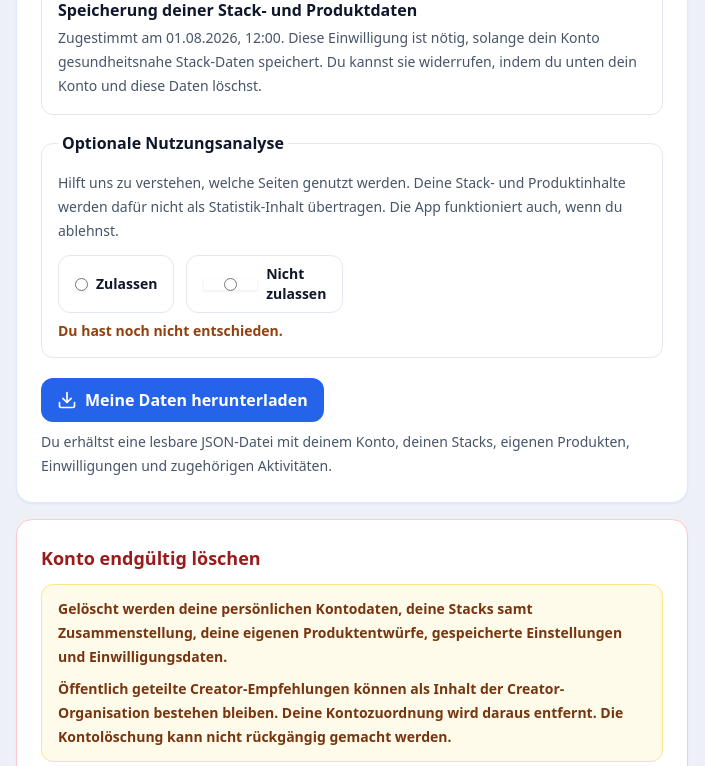
ProfilePage preferences and privacy controls › downloads the real export response and reports completion
The width and height of the screenshot is (705, 766).
(page scrolled)
Click the button "Meine Daten herunterladen" below "Du hast noch nicht entschieden." at (182, 400), box [41, 378, 324, 422]
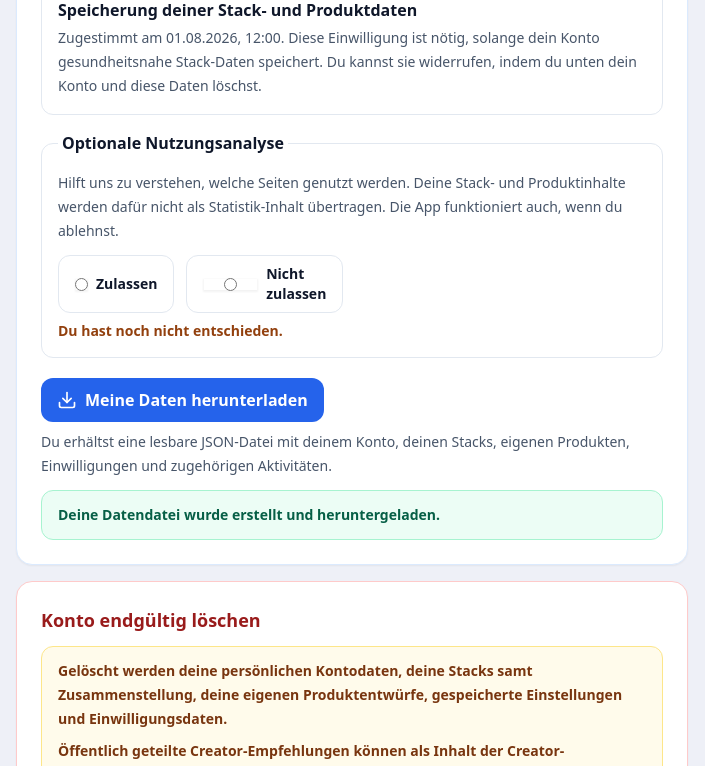
Now the text "Deine Datendatei wurde erstellt und heruntergeladen." is shown, box [41, 490, 663, 540]
